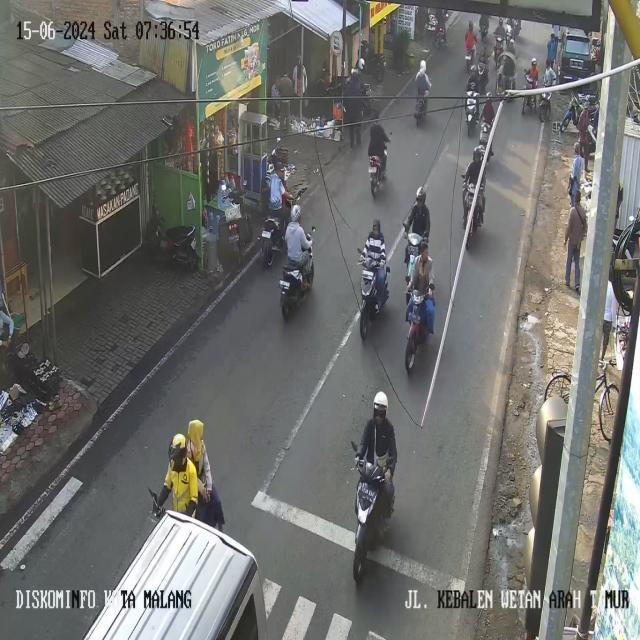Helmet: (168, 433, 186, 461), (373, 391, 387, 411), (291, 205, 301, 221), (416, 186, 425, 201), (419, 238, 428, 252), (473, 146, 481, 161), (372, 219, 380, 232), (357, 58, 364, 70), (275, 161, 283, 171), (588, 95, 596, 105), (574, 142, 580, 155), (419, 60, 425, 72), (470, 65, 476, 74), (531, 58, 537, 66), (468, 20, 472, 30), (486, 92, 492, 98), (499, 17, 503, 24)
Number Plate: (411, 313, 420, 323), (362, 270, 373, 278), (408, 246, 417, 255), (280, 280, 289, 288), (262, 230, 271, 238), (229, 234, 238, 242), (190, 237, 195, 249), (368, 166, 376, 173)
